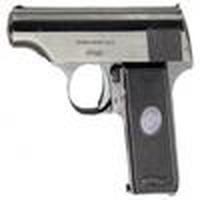gun: (8, 5, 182, 198)
